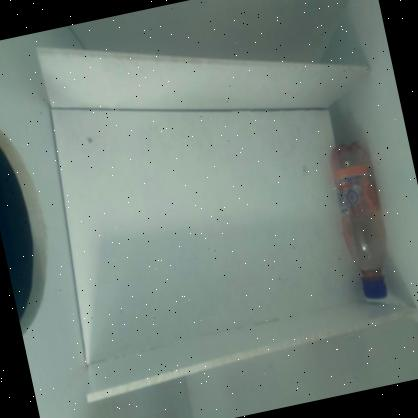bottle: (305, 120, 415, 318)
cap: (358, 272, 390, 302)
label: (326, 157, 379, 220)
